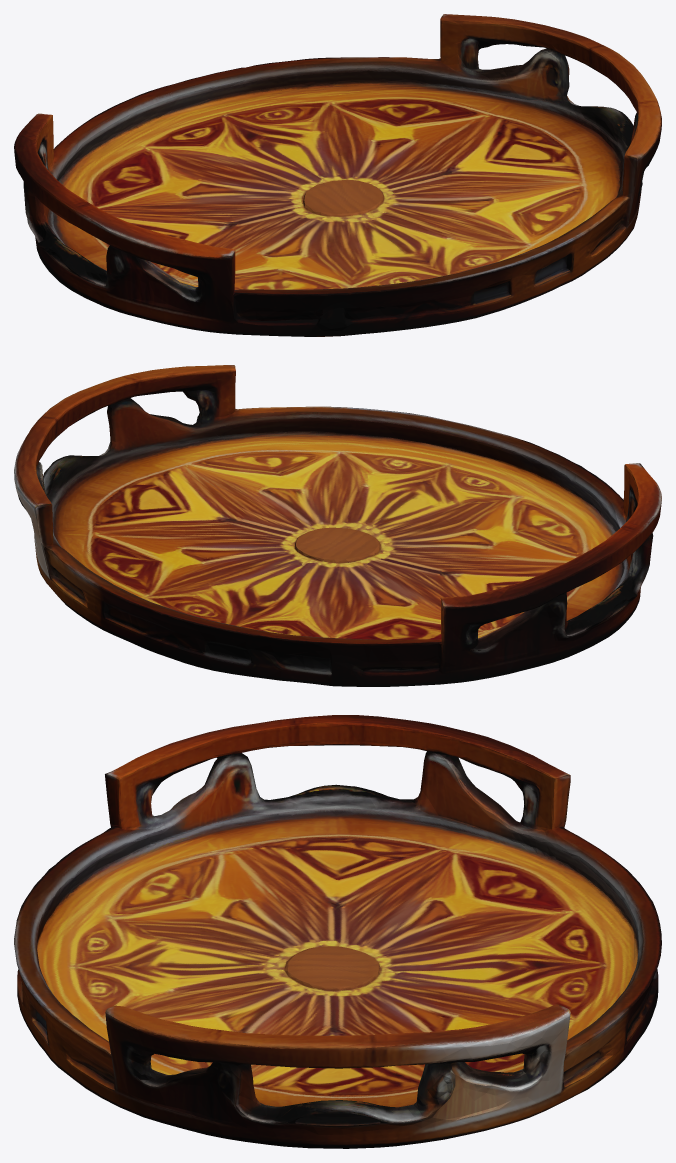
Rendered from wooden-serving-tray-art-deco.jpeg.glb.
3 renders of one model, top to bottom at view 1: azimuth 30°, elevation 25°; view 2: azimuth 150°, elevation 25°; view 3: azimuth 270°, elevation 25°, orthographic. The views are drawn at different scales.
Visible parts, largest first — view 1: world; view 2: world; view 3: world.
Part boxes in pixels (x1,y1,x2,y2): world: (14, 14, 661, 336); world: (14, 365, 661, 686); world: (14, 715, 661, 1148).
Size of the model in its own units: 0.9992 by 0.1618 by 0.8256.
Materials: 1 (1 with a texture image).
